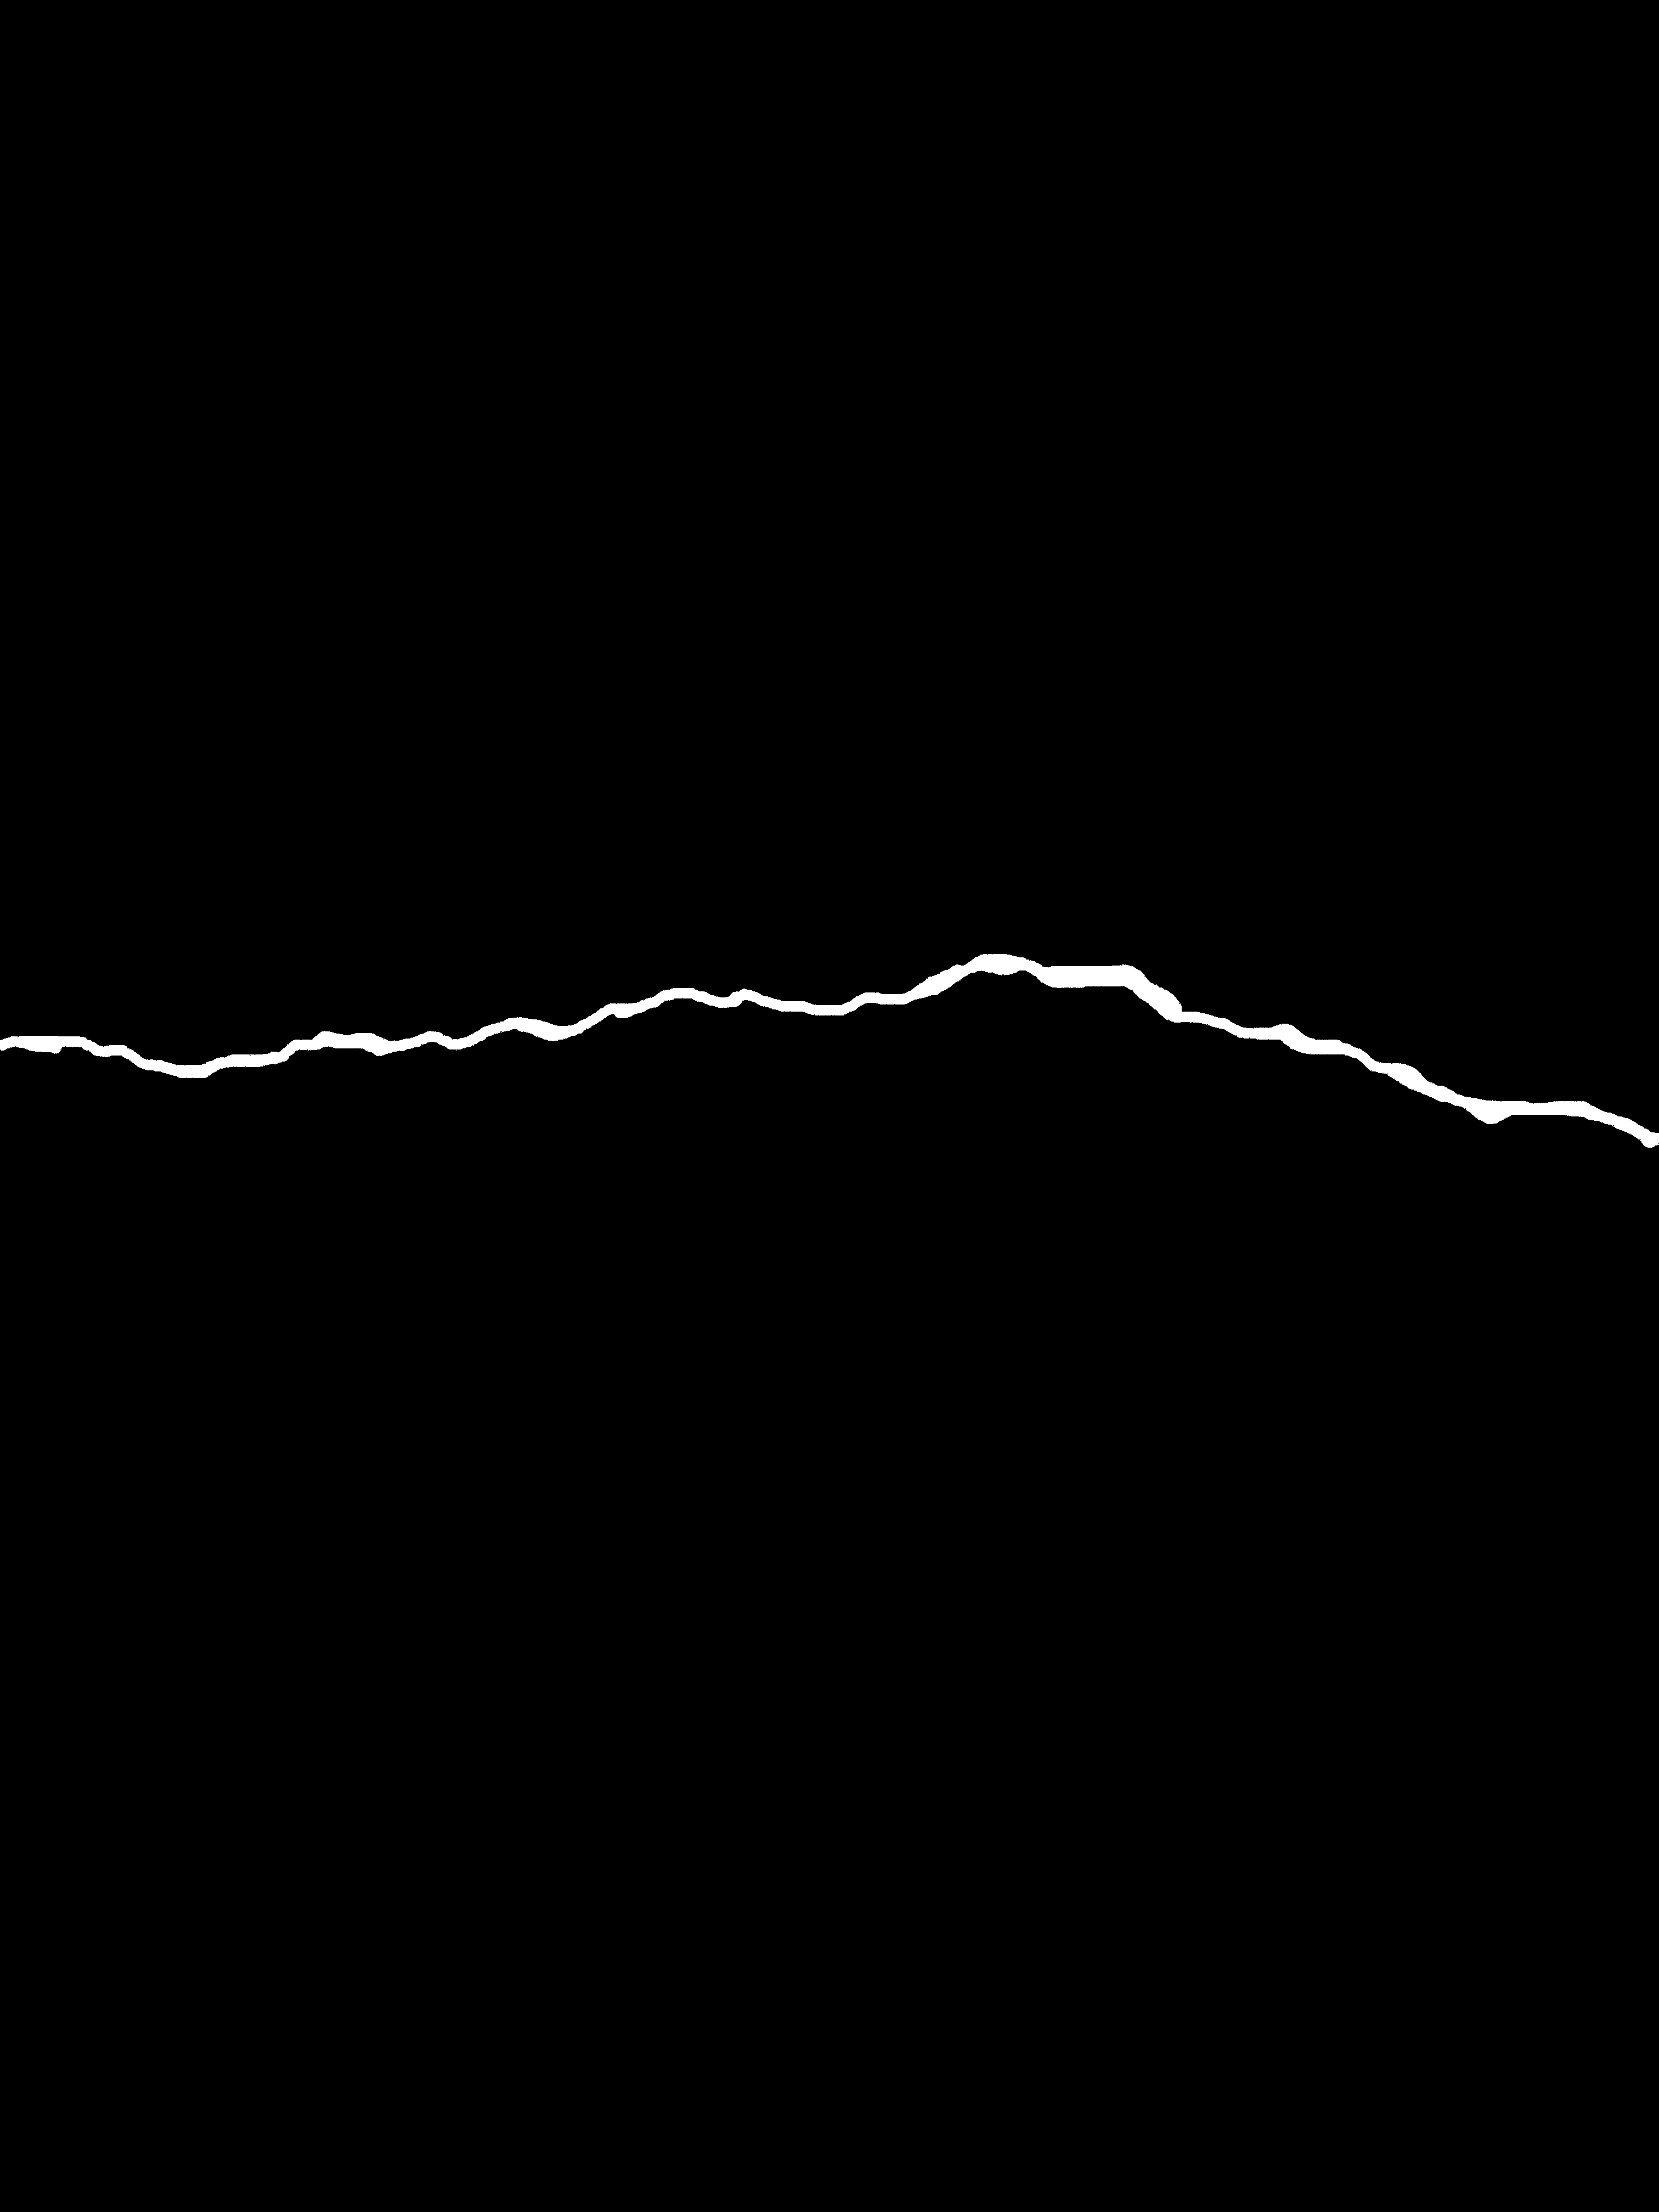Crack: (0, 907, 1659, 1165)
